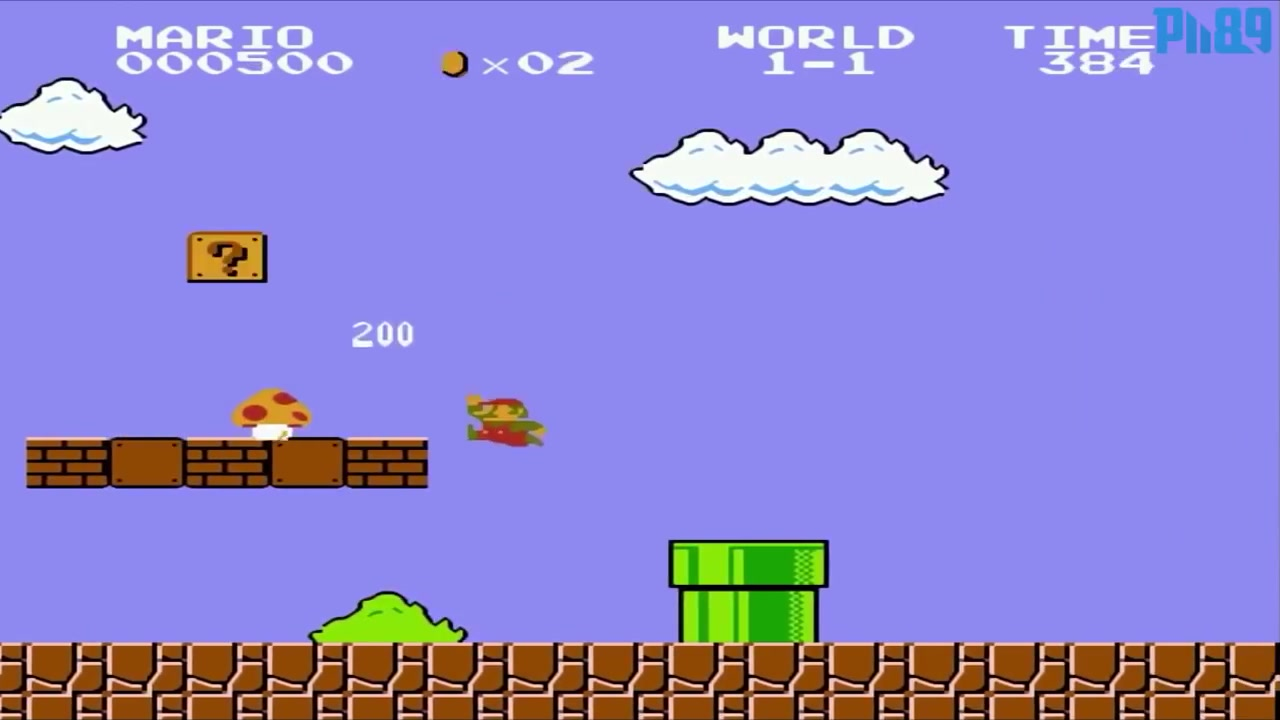mario: (455, 387, 551, 454)
